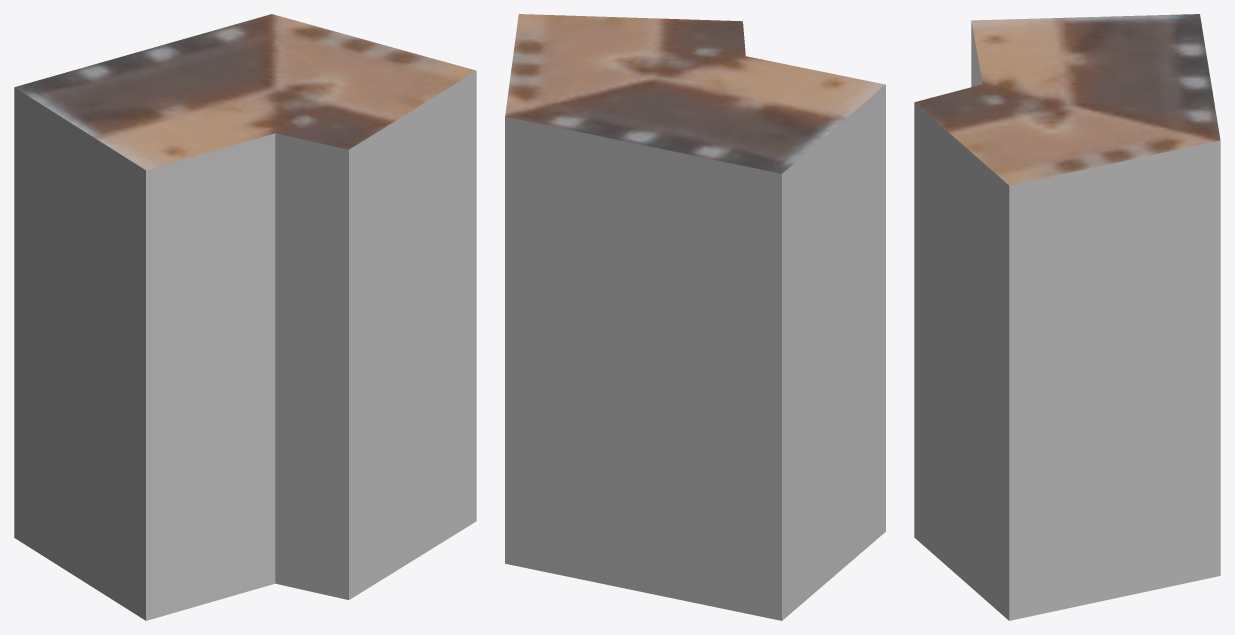
The model's file is DEBW_0010007Tx6p.gltf.
3 views of the same model, side by side, from view 1: azimuth 30°, elevation 25°; view 2: azimuth 150°, elevation 25°; view 3: azimuth 270°, elevation 25° (orthographic). The views are drawn at different scales.
Parts seen in each view (by area): view 1: Z_UP; view 2: Z_UP; view 3: Z_UP.
Part boxes in pixels (<box>): Z_UP: <box>14,14,476,620</box>; Z_UP: <box>505,14,885,620</box>; Z_UP: <box>914,14,1220,620</box>.
Size of the model in its own units: 15.99 by 18.91 by 12.05.
2 materials, 1 textured.
